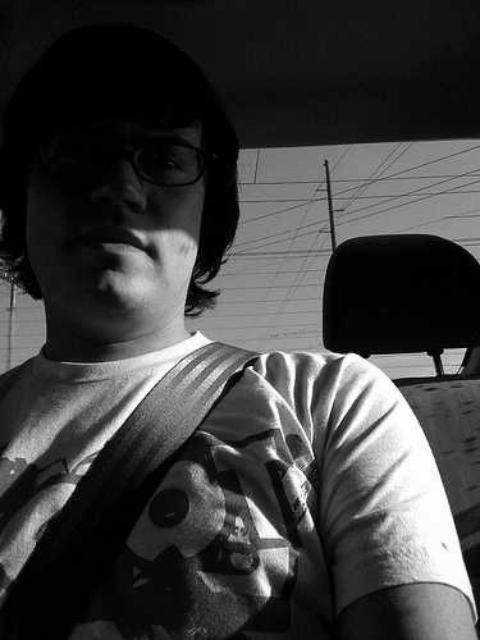Seatbelt: (0, 338, 266, 640)
